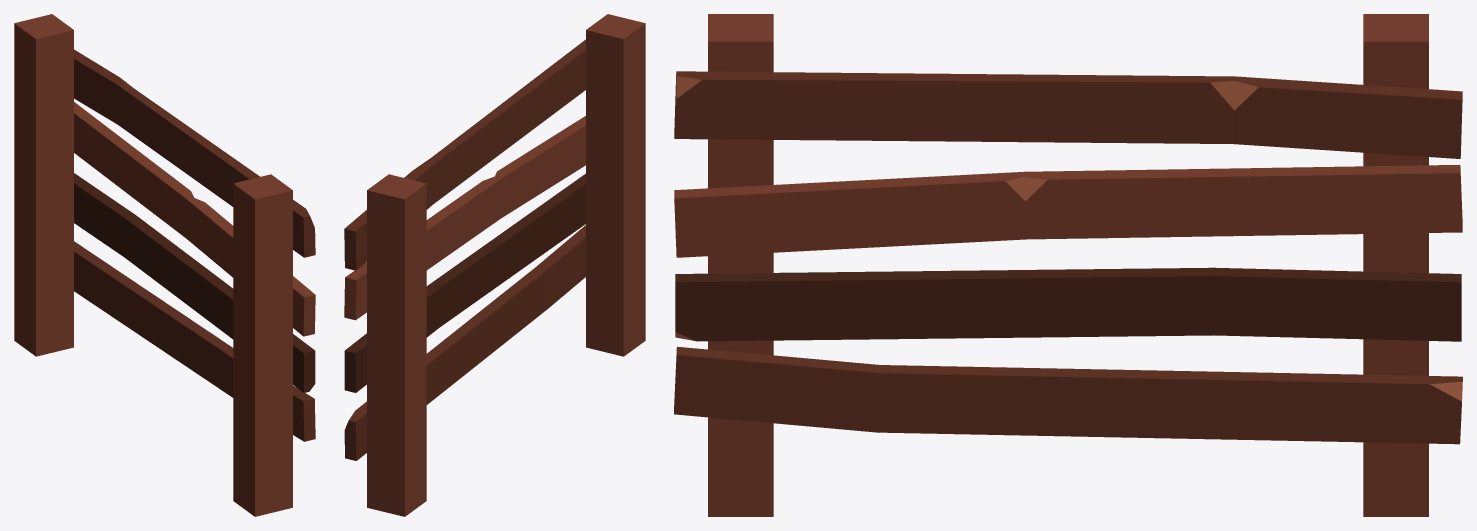
File: SM_Barriers_01.fbx
3 renders of one model, left to right at view 1: azimuth 30°, elevation 25°; view 2: azimuth 150°, elevation 25°; view 3: azimuth 270°, elevation 25°, orthographic. The views are drawn at different scales.
Visible parts, largest first — view 1: SM_Barriers_01; view 2: SM_Barriers_01; view 3: SM_Barriers_01.
Boxes of the visible parts, x1,y1,x2,y2 form: SM_Barriers_01: (14,14,315,516); SM_Barriers_01: (344,14,645,516); SM_Barriers_01: (674,14,1462,516).
Size of the model in its own units: 13.8 by 80 by 120.
